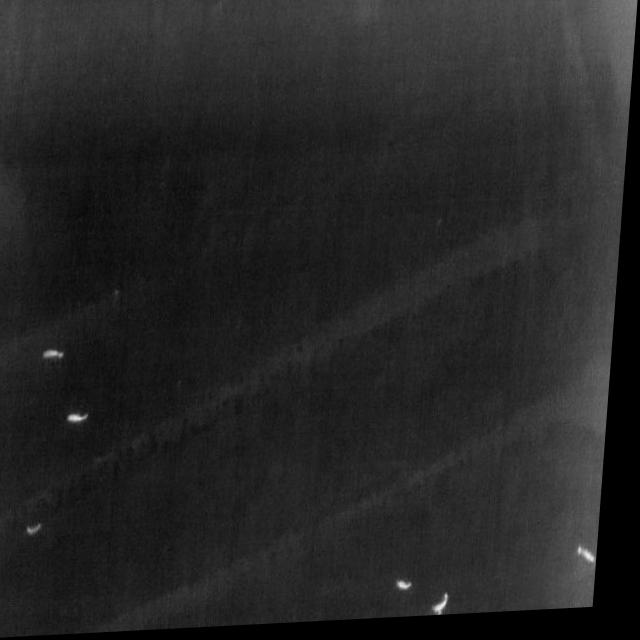deer: (441, 597, 460, 621), (585, 551, 606, 572), (404, 583, 423, 597), (73, 414, 96, 425), (48, 349, 70, 360), (35, 524, 50, 537)
